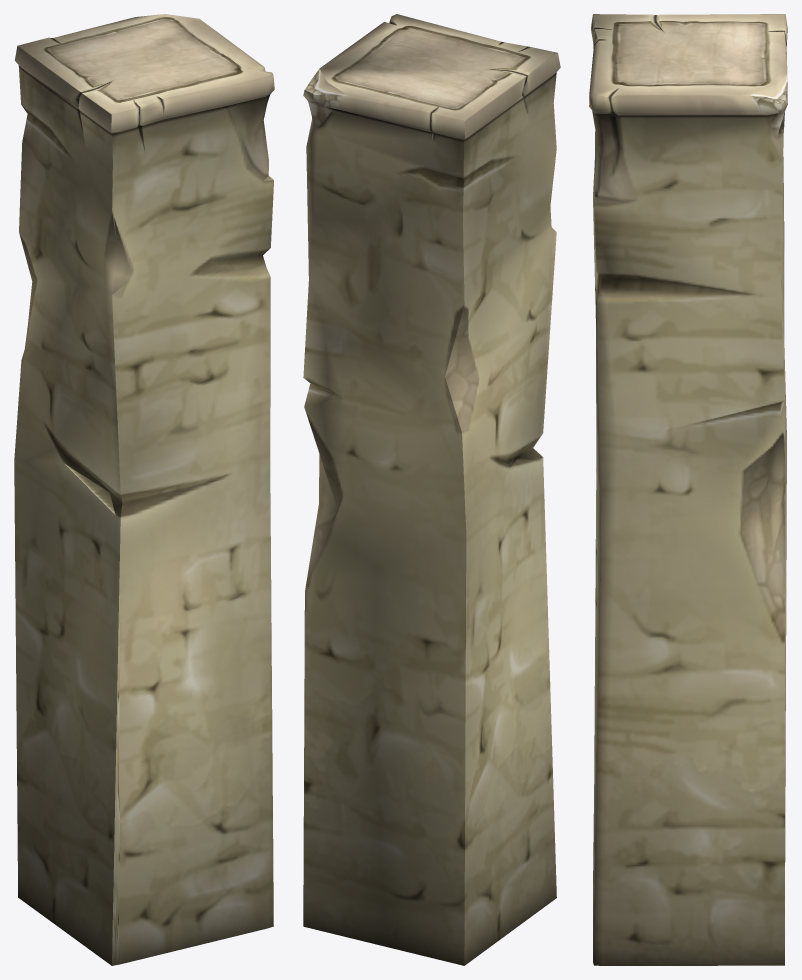
File: PlatformPillar_Animated.FBX
The picture shows the model from 3 angles, left to right: view 1: azimuth 30°, elevation 25°; view 2: azimuth 150°, elevation 25°; view 3: azimuth 270°, elevation 25°; orthographic projection. The views are drawn at different scales.
Visible parts, largest first — view 1: PlatformPillar; view 2: PlatformPillar; view 3: PlatformPillar.
Part boxes in pixels (box(x1,y1,x2,y2)): PlatformPillar: box(14, 14, 274, 965); PlatformPillar: box(303, 14, 560, 965); PlatformPillar: box(589, 14, 787, 965).
Size of the model in its own units: 4 by 19.47 by 4.03.
